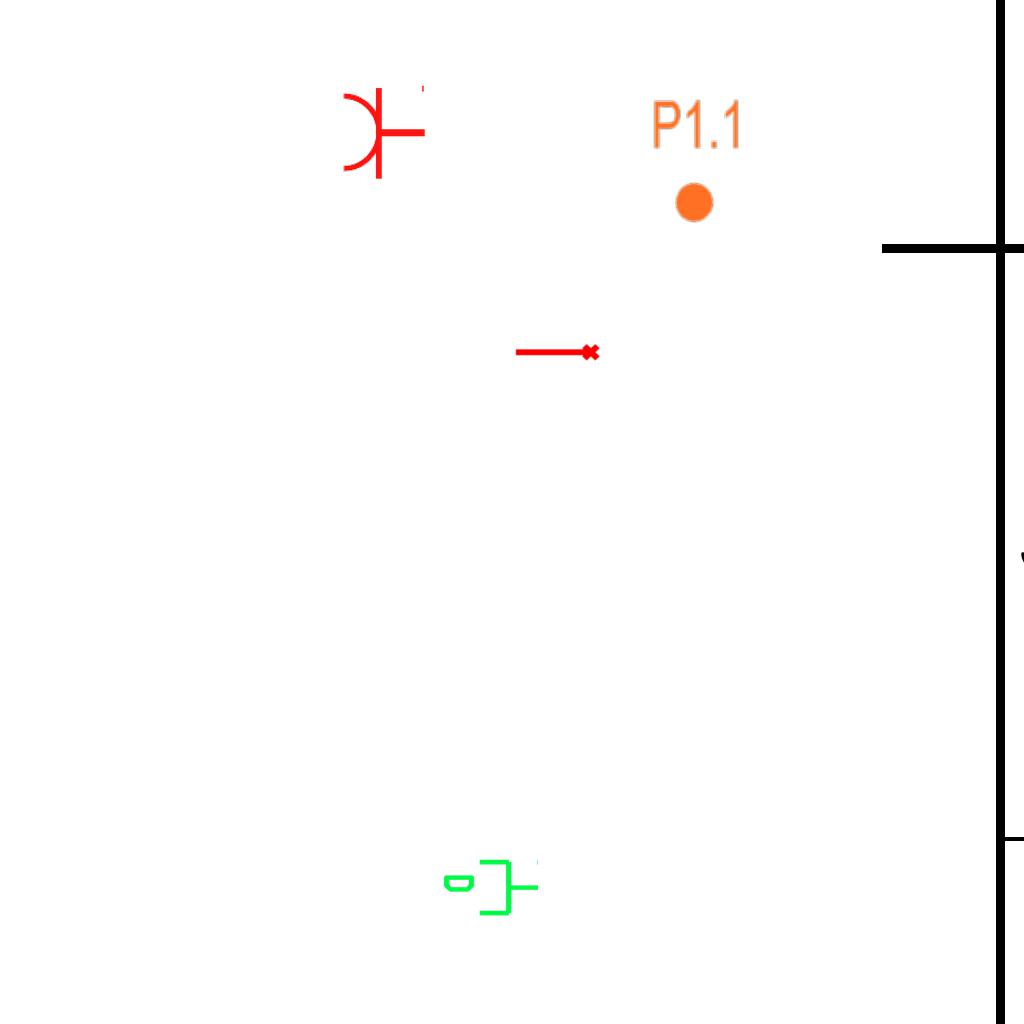ASR_Ansaugoeffnung: (513, 342, 601, 365)
Datenanschluss_einfach: (441, 855, 541, 924)
Downlight_LED_Einbauleuchten_Flur: (651, 97, 744, 225)
Schukosteckdose_einfach: (340, 81, 427, 181)
